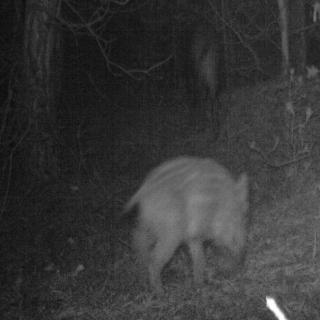Pig: (118, 141, 266, 300)
